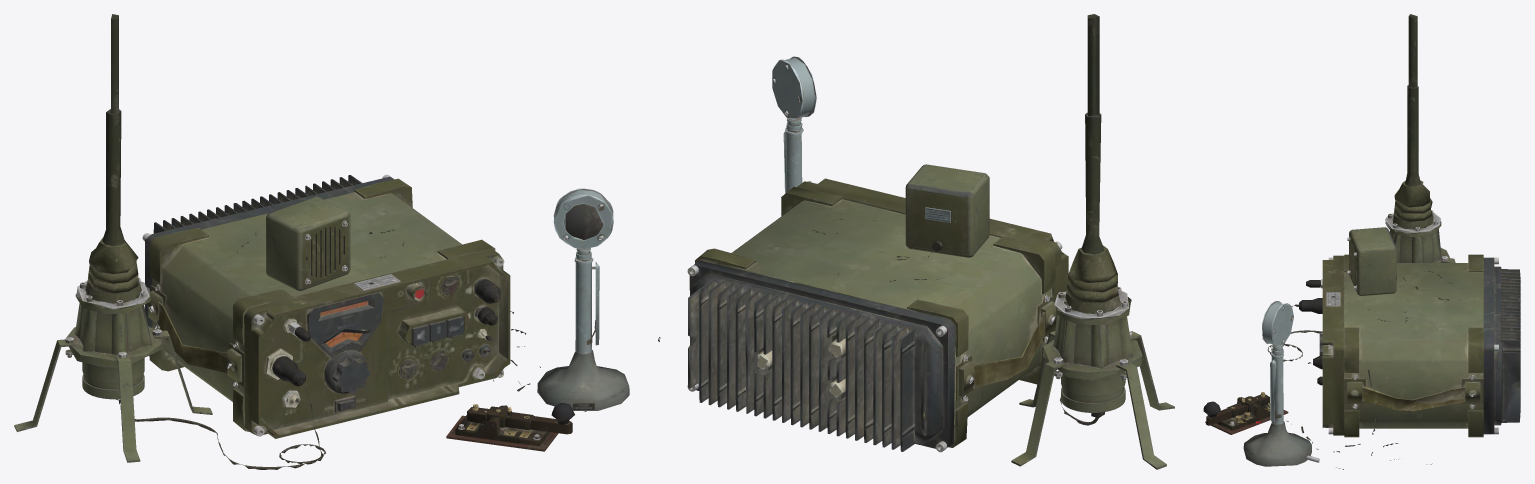
File: vintage_radio_transceiver.b16edb43.glb
3 views of the same model, side by side, from view 1: azimuth 30°, elevation 25°; view 2: azimuth 150°, elevation 25°; view 3: azimuth 270°, elevation 25° (orthographic). The views are drawn at different scales.
Parts seen in each view (by area): view 1: vintage_radio_transceiver, vintage_radio_transceiver_antenna, vintage_radio_transceiver_microphone, vintage_radio_transceiver_speaker, vintage_radio_transceiver_morse_key_base, vintage_radio_transceiver_morse_key_arm, vintage_radio_transceiver_dial, vintage_radio_transceiver_cables, vintage_radio_transceiver_antenna_plug_a; view 2: vintage_radio_transceiver, vintage_radio_transceiver_antenna, vintage_radio_transceiver_speaker, vintage_radio_transceiver_microphone; view 3: vintage_radio_transceiver, vintage_radio_transceiver_antenna, vintage_radio_transceiver_microphone, vintage_radio_transceiver_speaker, vintage_radio_transceiver_morse_key_arm, vintage_radio_transceiver_morse_key_base, vintage_radio_transceiver_cables.
Part boxes in pixels (x1,y1,x2,y2): vintage_radio_transceiver: (142, 174, 510, 438); vintage_radio_transceiver_antenna: (14, 14, 212, 462); vintage_radio_transceiver_microphone: (537, 188, 629, 411); vintage_radio_transceiver_speaker: (266, 196, 350, 290); vintage_radio_transceiver_morse_key_base: (446, 405, 558, 451); vintage_radio_transceiver_morse_key_arm: (467, 403, 574, 434); vintage_radio_transceiver_dial: (324, 332, 370, 394); vintage_radio_transceiver_cables: (120, 230, 540, 469); vintage_radio_transceiver_antenna_plug_a: (272, 356, 305, 386); vintage_radio_transceiver: (687, 178, 1068, 452); vintage_radio_transceiver_antenna: (1011, 14, 1174, 469); vintage_radio_transceiver_speaker: (905, 164, 989, 257); vintage_radio_transceiver_microphone: (772, 56, 816, 193); vintage_radio_transceiver: (1322, 254, 1520, 437); vintage_radio_transceiver_antenna: (1385, 14, 1455, 262); vintage_radio_transceiver_microphone: (1243, 301, 1319, 466); vintage_radio_transceiver_speaker: (1347, 227, 1396, 295); vintage_radio_transceiver_morse_key_arm: (1203, 392, 1269, 425); vintage_radio_transceiver_morse_key_base: (1205, 397, 1288, 434); vintage_radio_transceiver_cables: (1267, 271, 1461, 469).
Size of the model in its own units: 0.95 by 0.7197 by 0.6839.
2 materials, 2 textured.
